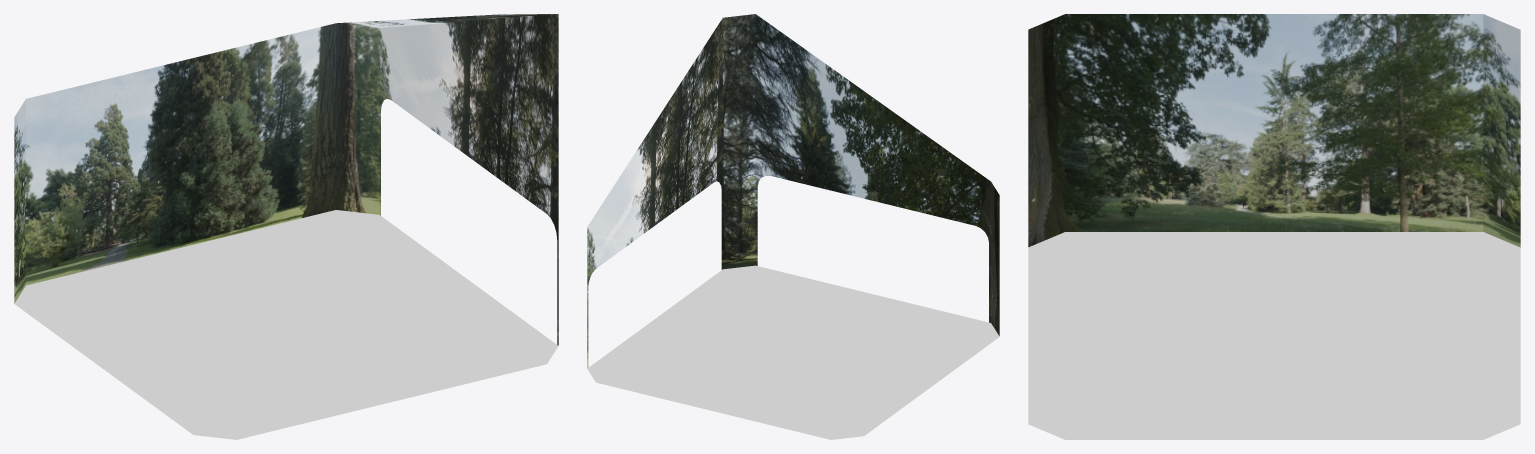
File: PZ_room2C.glb
3 renders of one model, left to right at view 1: azimuth 30°, elevation 25°; view 2: azimuth 150°, elevation 25°; view 3: azimuth 270°, elevation 25°, orthographic. The views are drawn at different scales.
Visible parts, largest first — view 1: Plane; view 2: Plane; view 3: Plane.
Boxes of the visible parts, x1,y1,x2,y2 form: Plane: (14,14,558,439); Plane: (587,14,999,439); Plane: (1028,14,1520,439).
Bounding box in the file's own units: 20.48 × 17.78 × 20.48.
2 materials, 1 textured.
